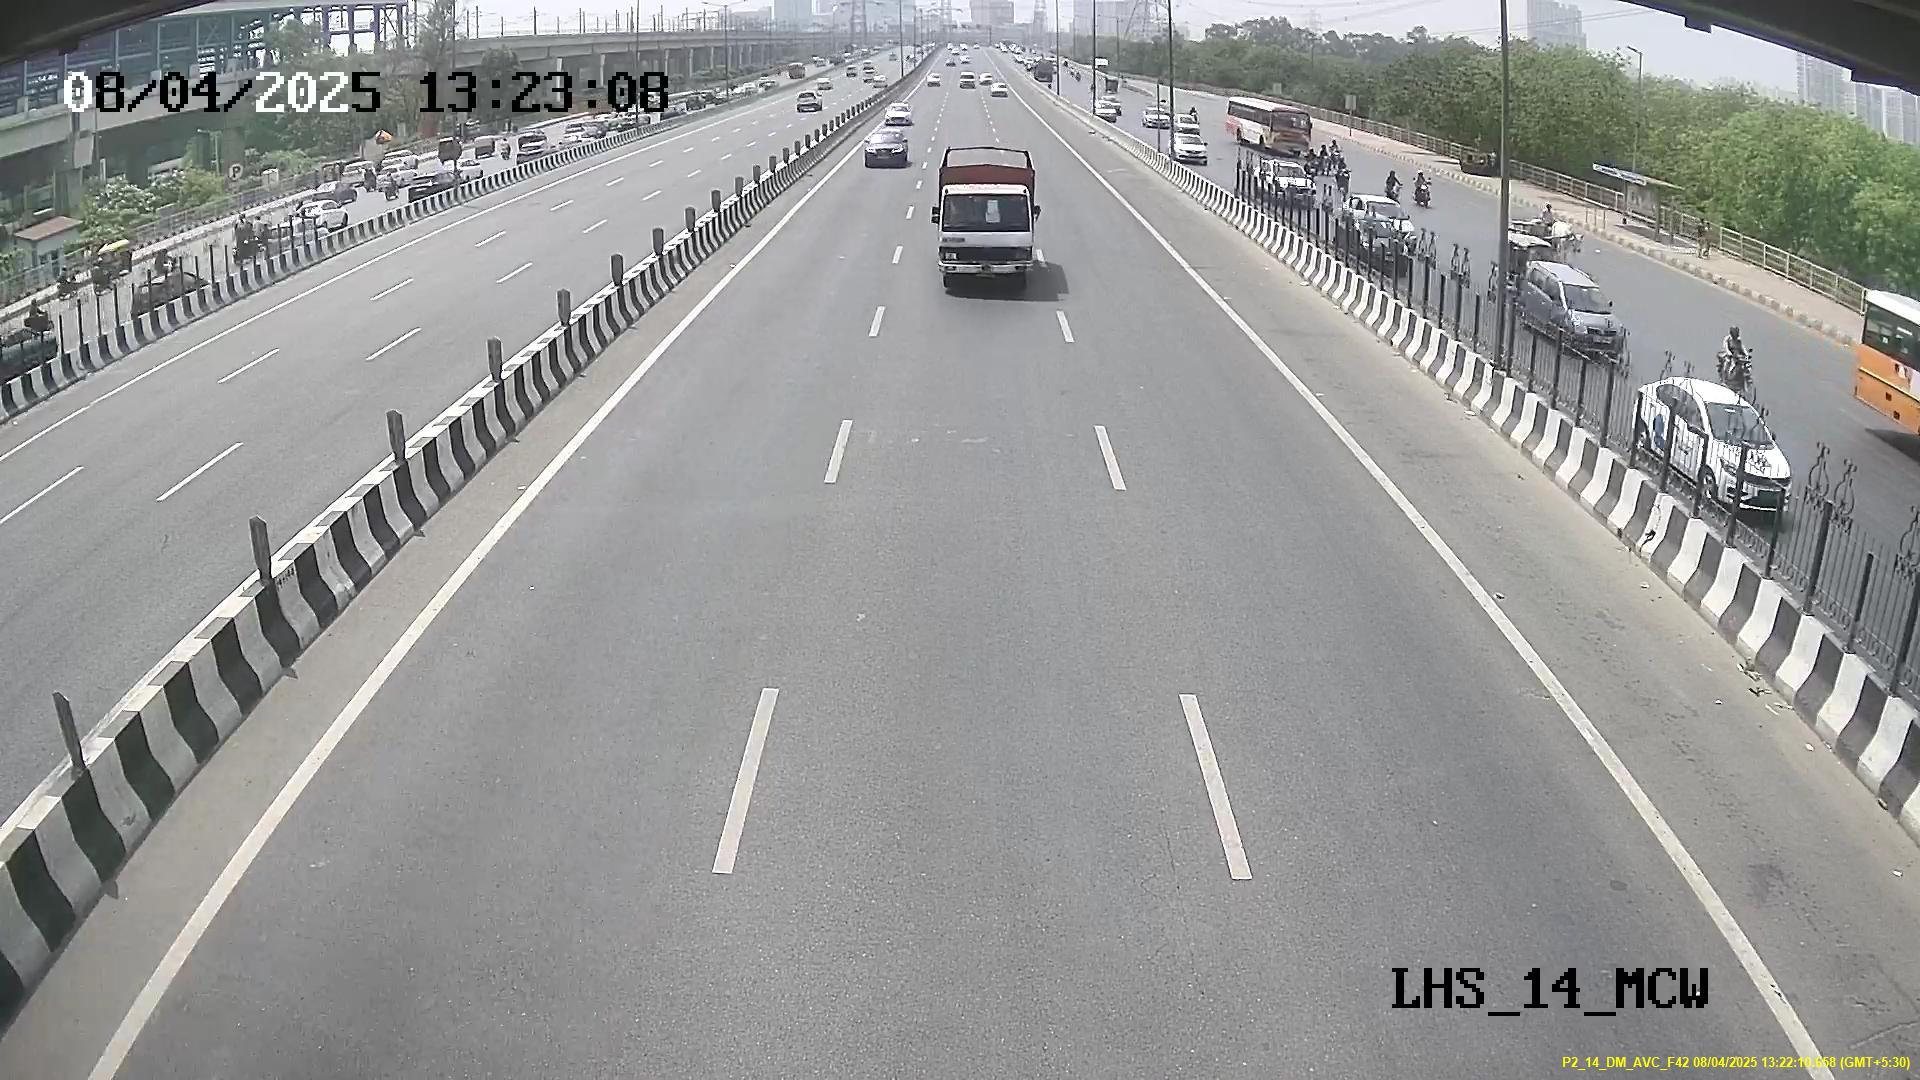lcv: (932, 178, 1042, 290)
